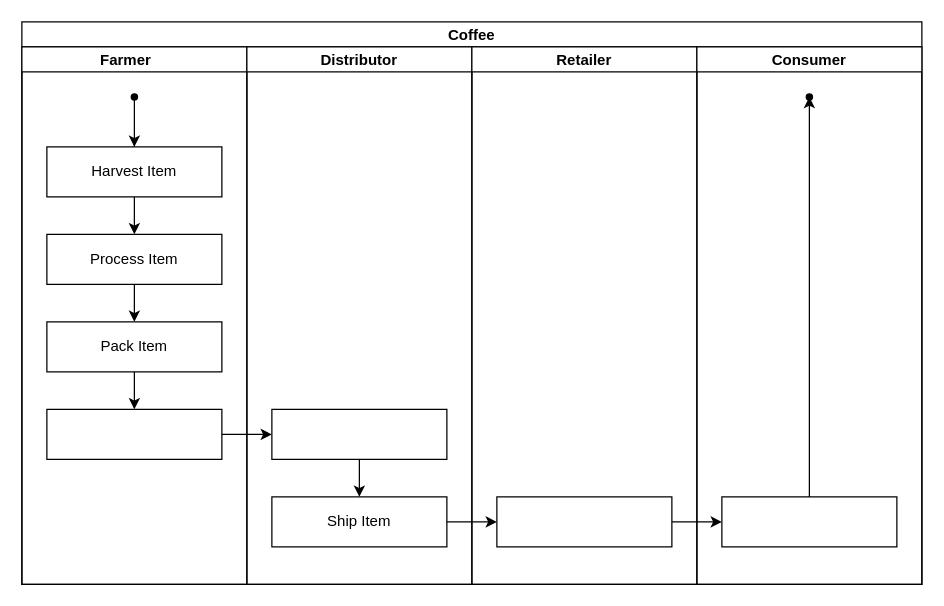
The diagram is 944 pixels wide and 606 high, and some of its shapes have lost their labels. Here are the shapes that lost their labels. From the top down, the centre of each, then its label:
At point (134, 433): "Add Item".
At point (359, 433): "Buy Item".
At point (584, 521): "Receive Item".
At point (809, 521): "Purchase Item".
